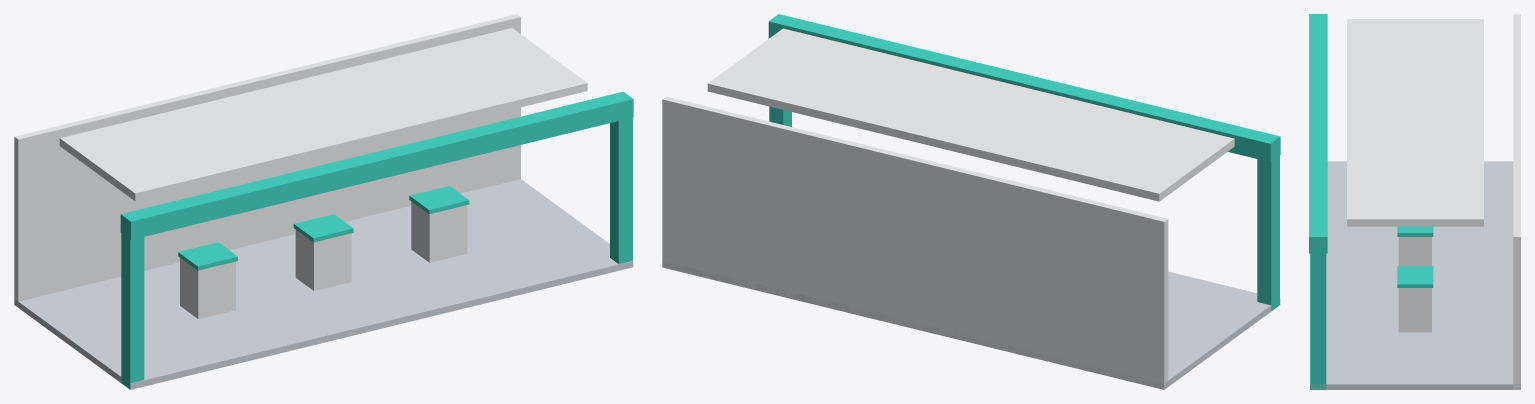
3 views of the same model, side by side, from view 1: azimuth 30°, elevation 25°; view 2: azimuth 150°, elevation 25°; view 3: azimuth 270°, elevation 25° (orthographic). The views are drawn at different scales.
Visible parts, largest first — view 1: Exhibition Booth Concept; view 2: Exhibition Booth Concept; view 3: Exhibition Booth Concept.
Part boxes in pixels (left/top/right/bottom): Exhibition Booth Concept: left=14, top=14, right=633, bottom=389; Exhibition Booth Concept: left=662, top=14, right=1280, bottom=389; Exhibition Booth Concept: left=1309, top=14, right=1520, bottom=389.
Bounding box in the file's own units: 10 × 3.34 × 4.02.
